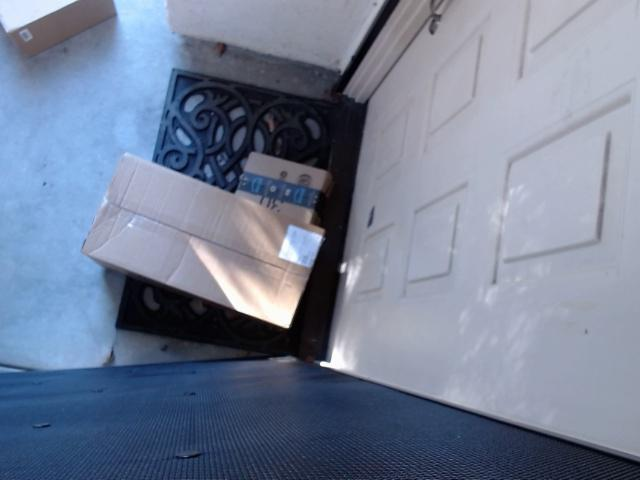box: (67, 162, 325, 340), (224, 121, 332, 244), (0, 0, 148, 60)
